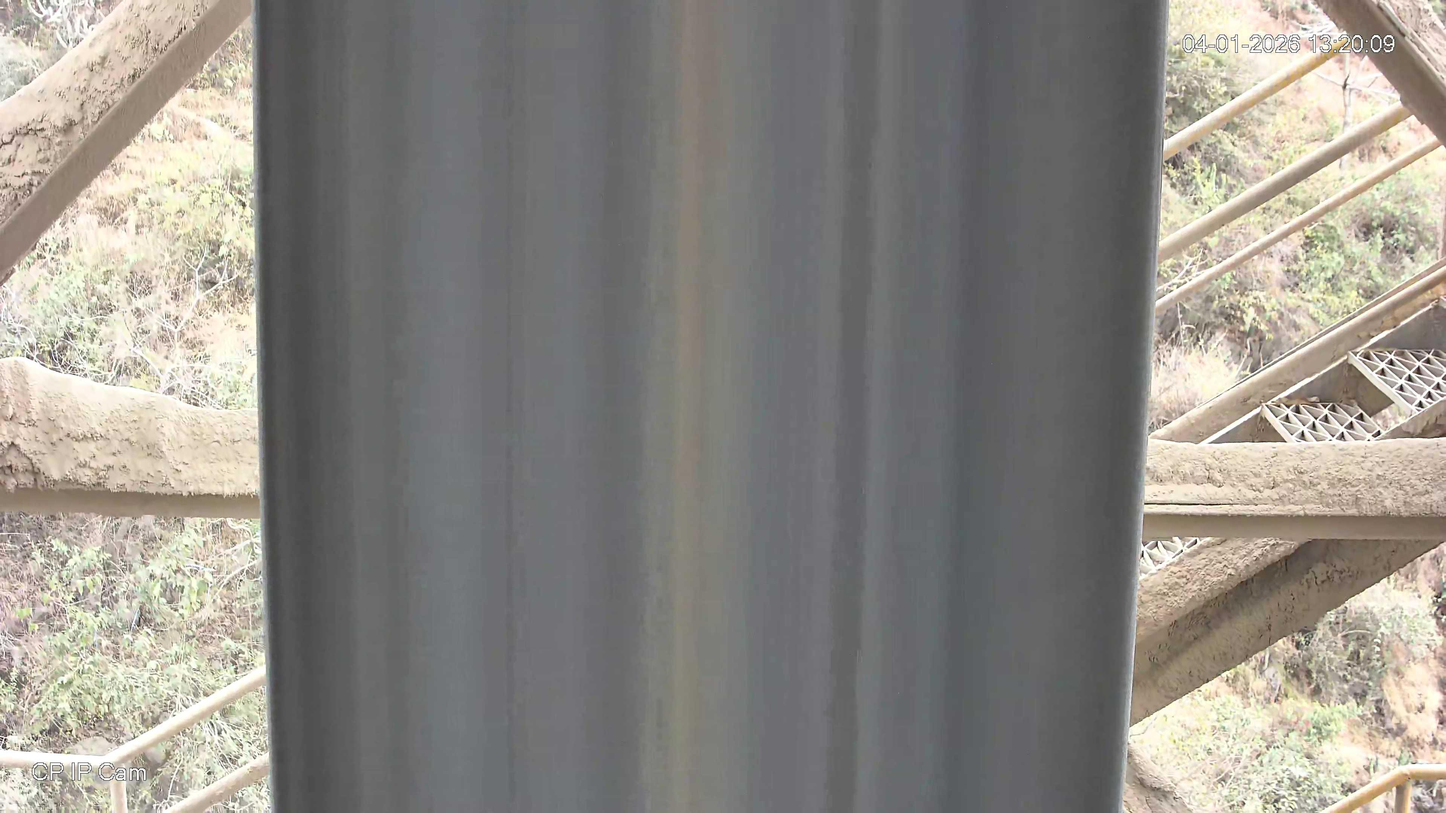belt_roi: (250, 1, 1170, 813)
